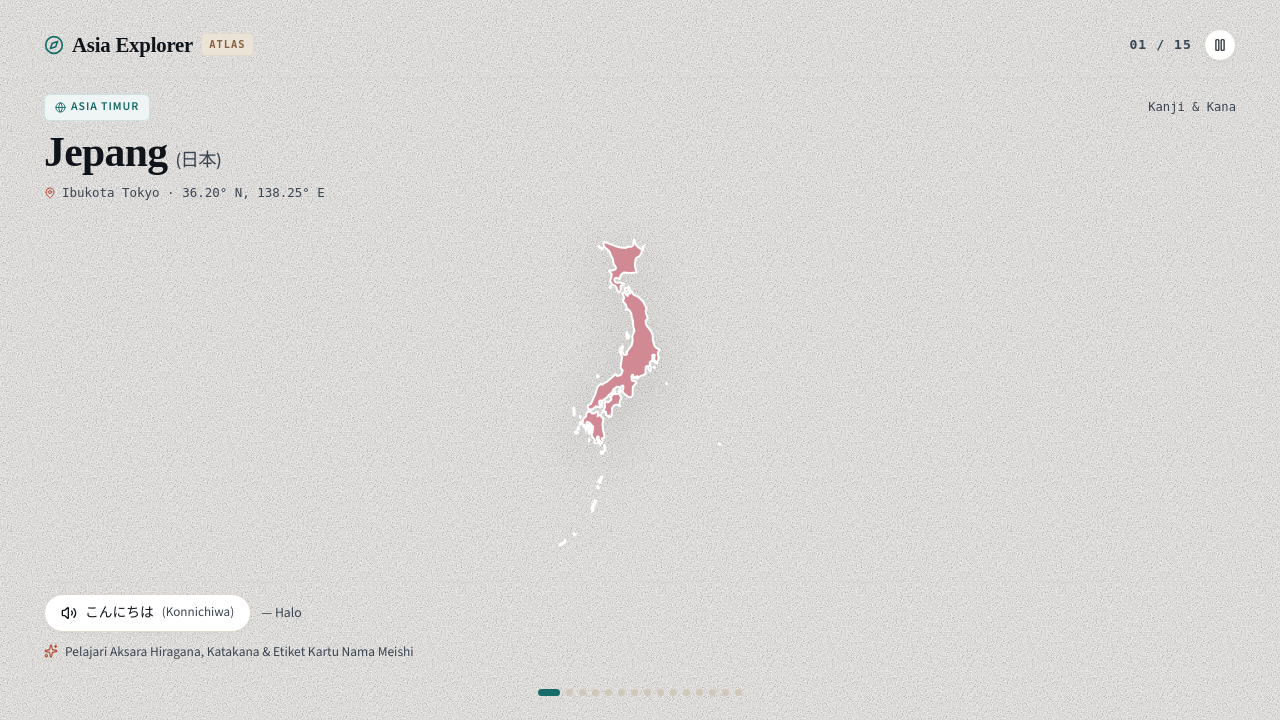
Test: AuthInteractiveMap & AuthPage Integration › toggles auto-rotation when clicking the HUD toggle button
What coordinates should you click on to do the following:
click the button titled "Jeda Rotasi Otomatis"
I would click on:
 (1220, 45)
Its box is [1204,29,1236,61].
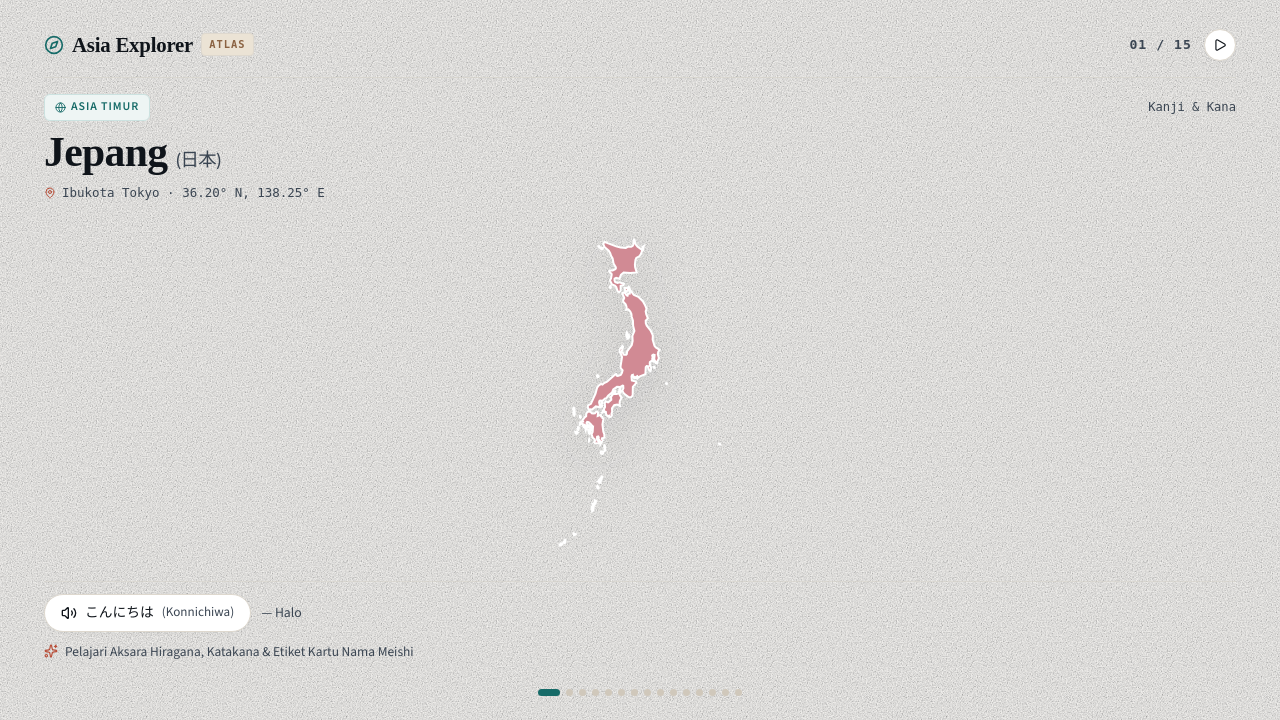
Now the button titled "Mulai Rotasi Otomatis" is shown, box [1204,29,1236,61]
